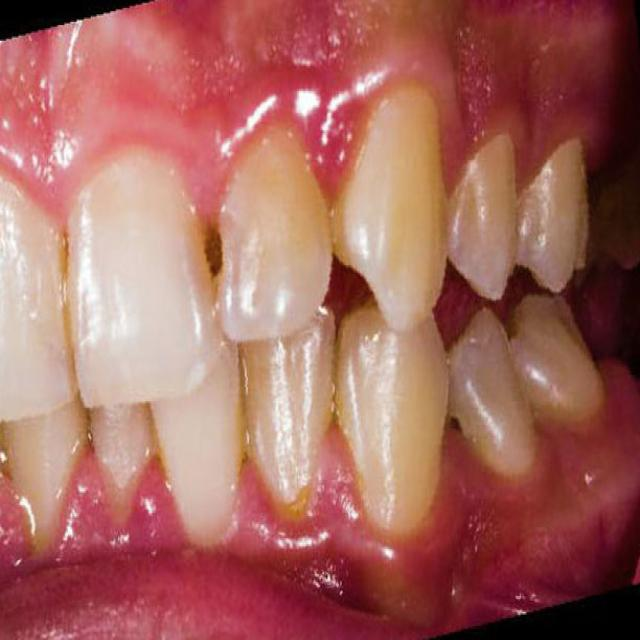caries: (188, 205, 242, 298), (443, 394, 474, 448)
